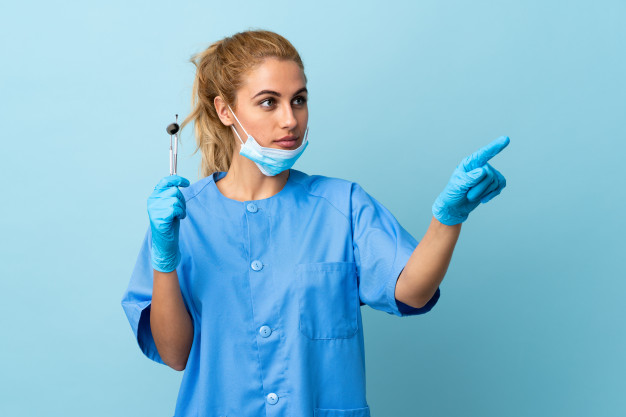mask_weared_incorrect: (211, 64, 311, 179)
